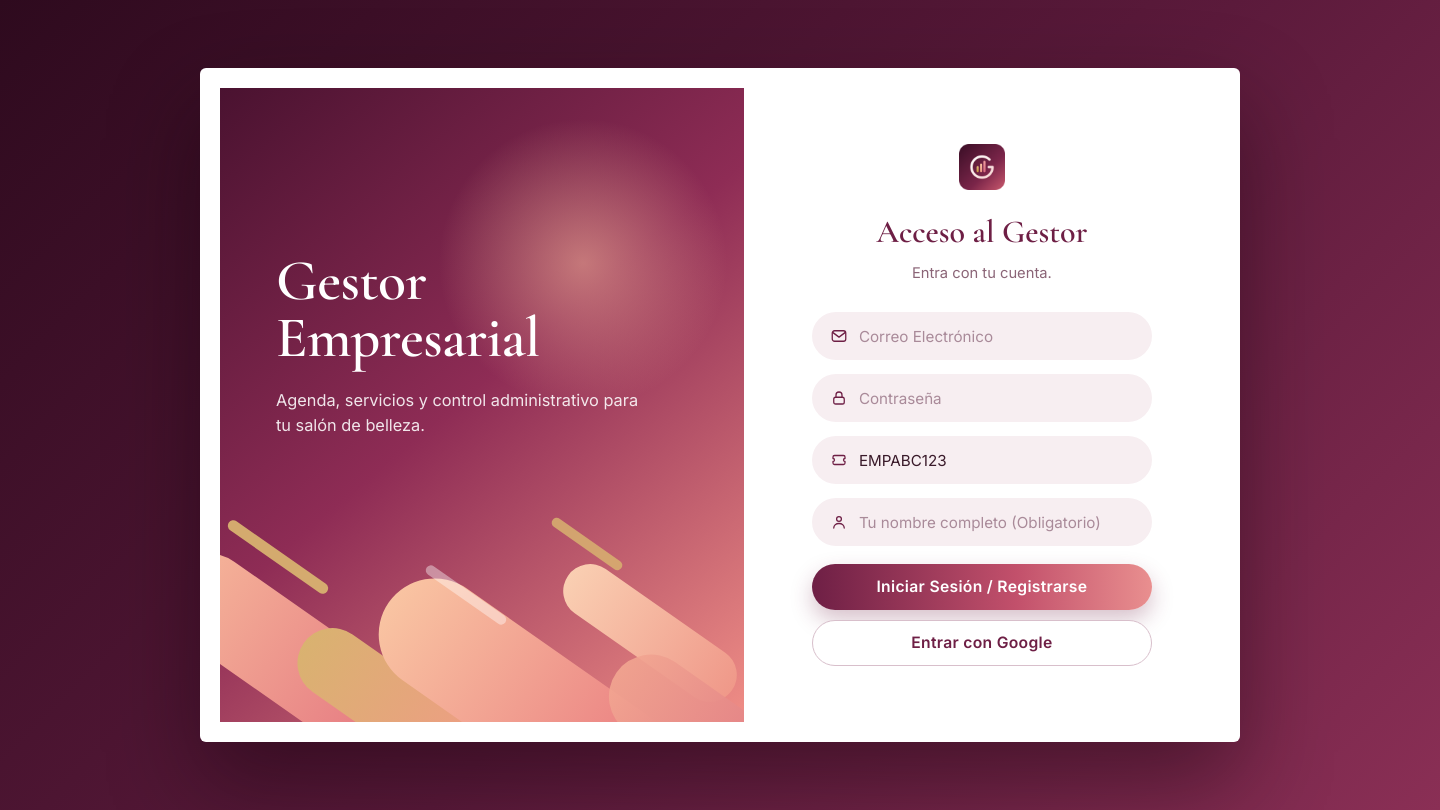
Test case: AuthScreen › si hay código de invitación sin nombre, avisa y no envía el formulario
In the field labelled "Correo Electrónico": (982, 336) x1=812 y1=312 x2=1152 y2=360, type "ana@test.com"
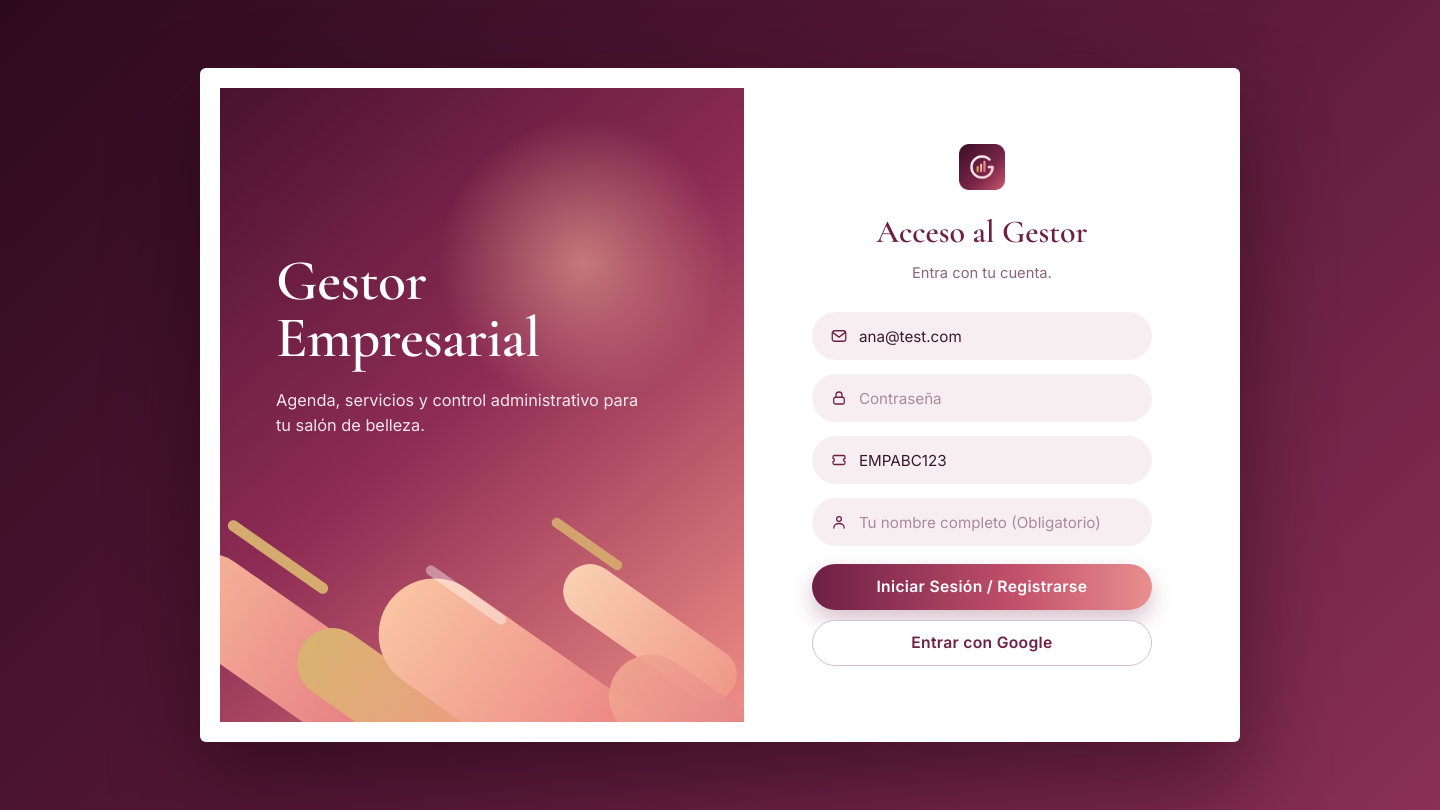
In the password field labelled "Contraseña": (982, 398) x1=812 y1=374 x2=1152 y2=422, type "secret123"
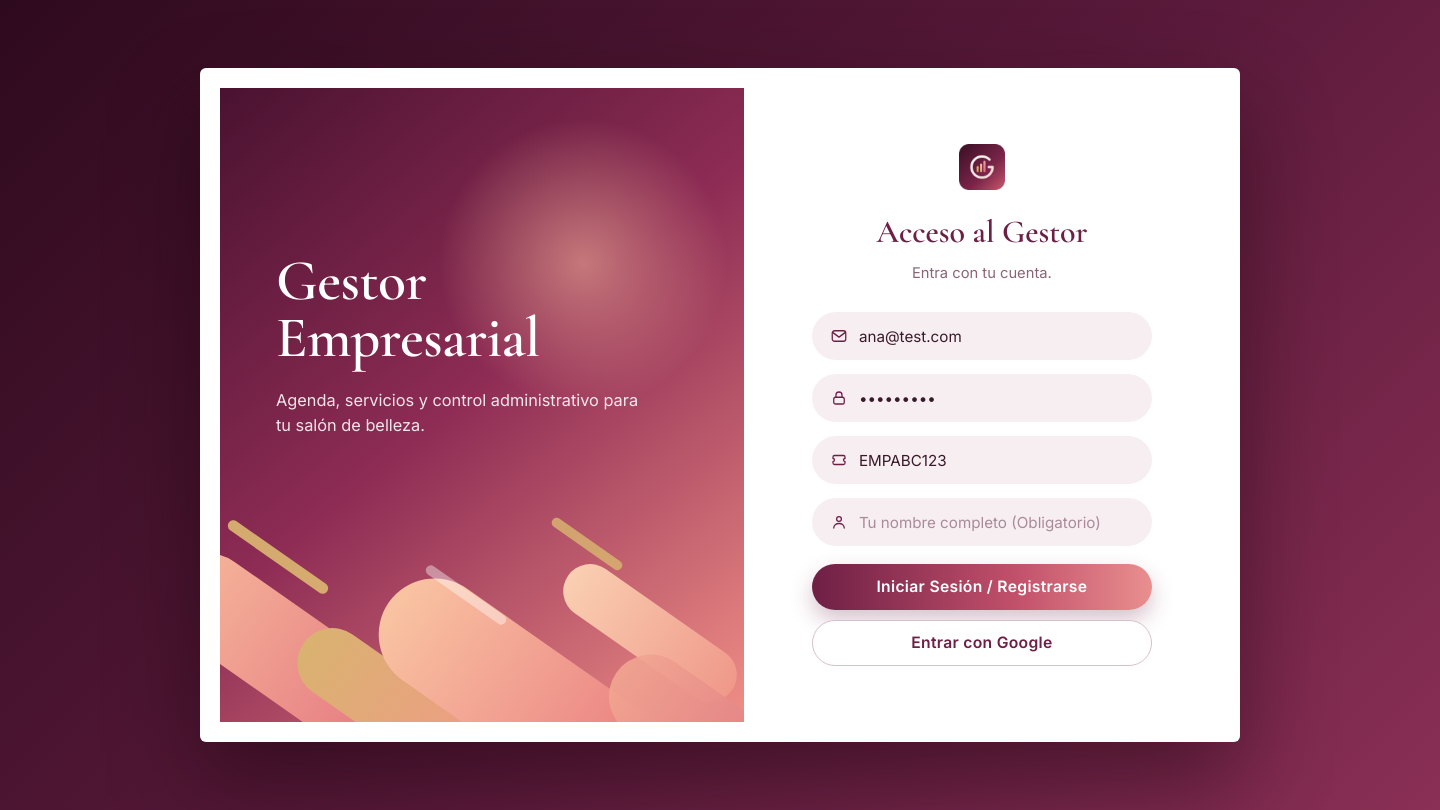
Click the button "Iniciar Sesión / Registrarse": (982, 587) x1=812 y1=564 x2=1152 y2=610
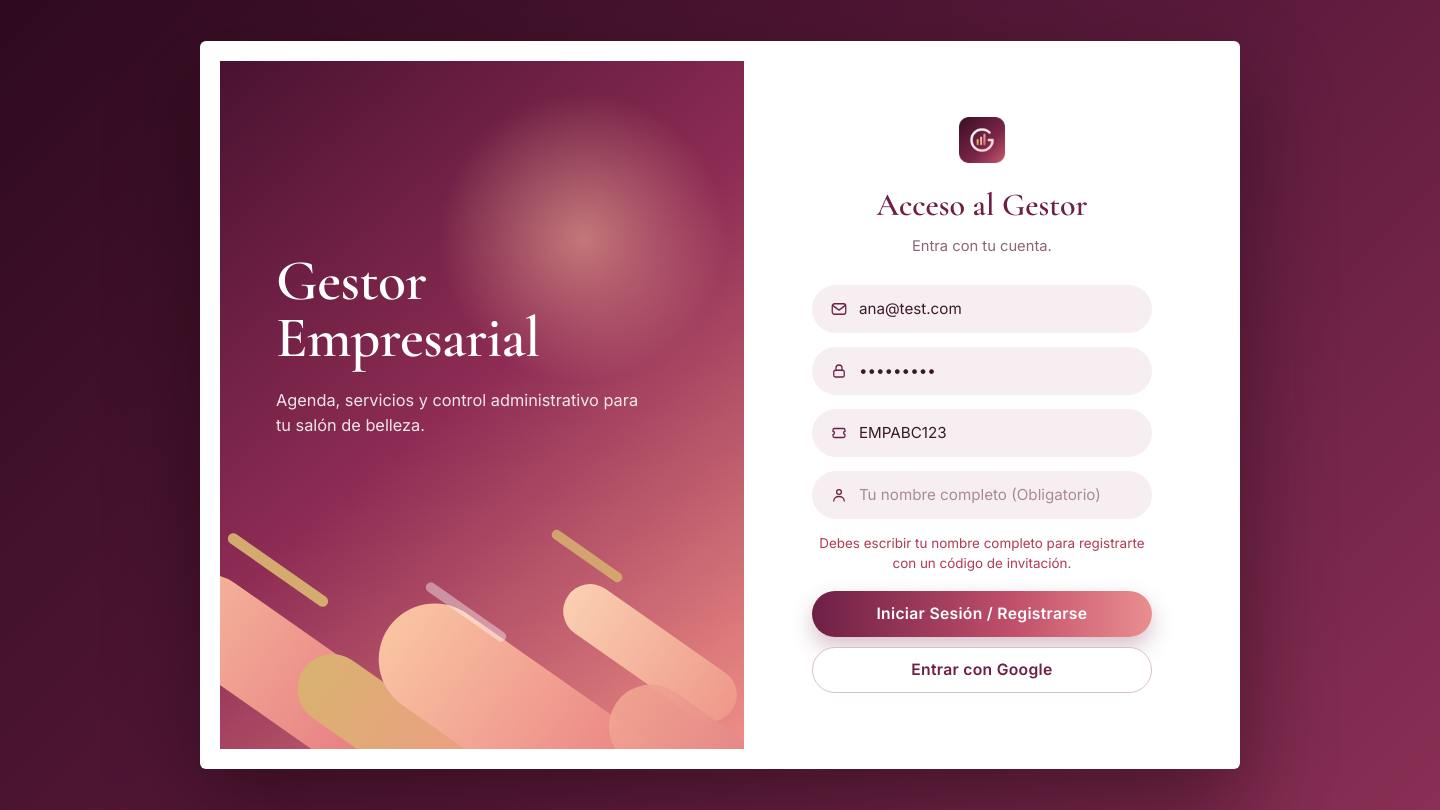
Check: the message reads "Debes escribir tu nombre completo para registrarte con un código de invitación.", box x1=819 y1=535 x2=1145 y2=571
